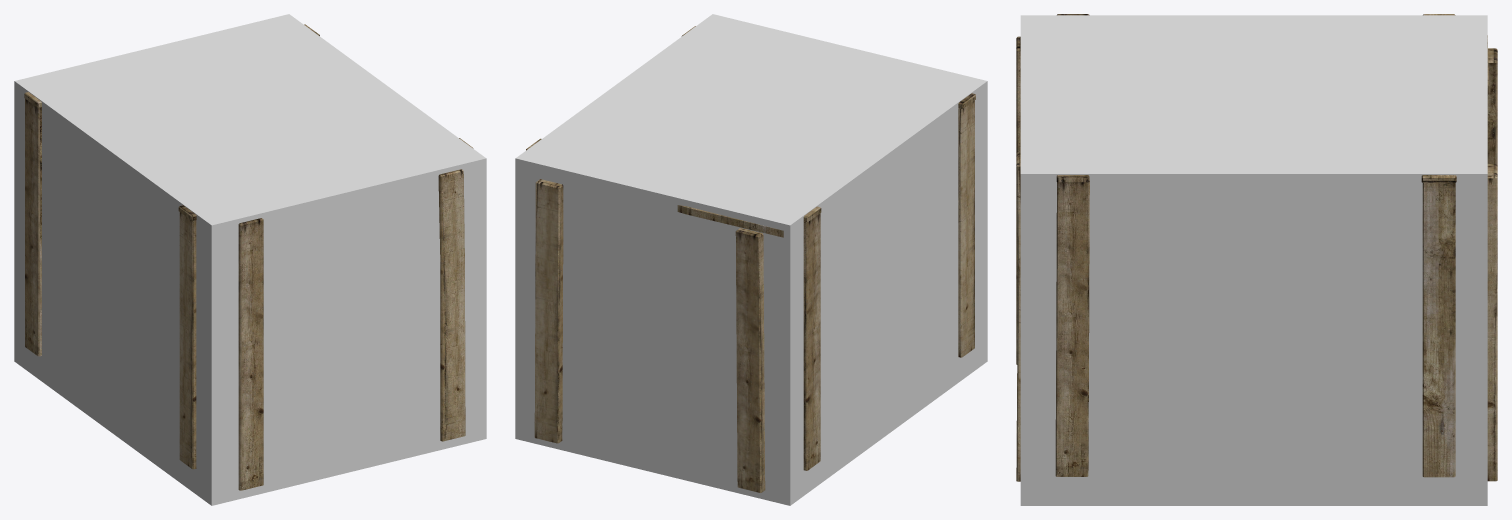
File: civil_box_a.fbx
3 views of the same model, side by side, from view 1: azimuth 30°, elevation 25°; view 2: azimuth 150°, elevation 25°; view 3: azimuth 270°, elevation 25° (orthographic). The views are drawn at different scales.
Parts seen in each view (by area): view 1: px_main_mesh, main_mesh; view 2: px_main_mesh, main_mesh; view 3: px_main_mesh, main_mesh.
Part boxes in pixels (x1,y1,x2,y2): px_main_mesh: (14,14,486,505); main_mesh: (24,24,473,490); px_main_mesh: (515,14,987,505); main_mesh: (526,26,975,492); px_main_mesh: (1020,15,1487,505); main_mesh: (1016,14,1497,481).
Size of the model in its own units: 1.17 by 1.11 by 1.46.
1 material, 1 textured.
